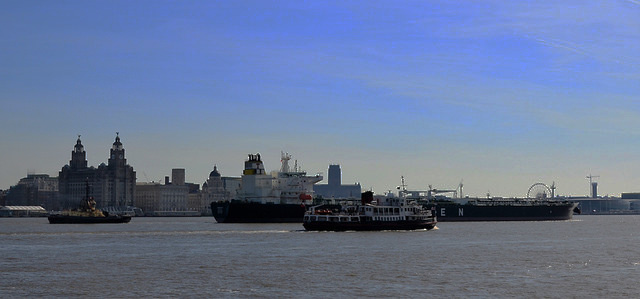boat: (301, 197, 440, 233)
tanker: (209, 154, 586, 228)
tug_boat: (47, 187, 133, 225)
